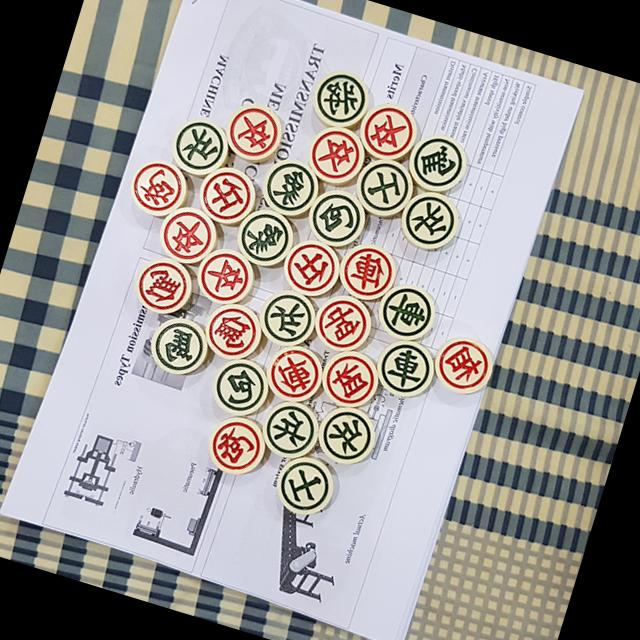black-advisor: (273, 456, 335, 516), (353, 157, 412, 217)
black-cannon: (305, 188, 367, 249), (212, 358, 272, 418)
black-chariot: (372, 280, 438, 342), (372, 338, 437, 398)
black-elephant: (234, 208, 295, 268), (262, 157, 320, 217)
black-general: (312, 70, 371, 127)
black-horse: (404, 133, 469, 197), (148, 316, 210, 376)
black-soldier: (398, 189, 462, 252), (314, 406, 376, 466), (263, 401, 323, 460), (172, 116, 232, 174), (262, 292, 319, 348)
red-advisor: (282, 238, 339, 298), (198, 166, 254, 224)
red-cannon: (207, 419, 263, 474), (130, 159, 184, 215)
red-chariot: (339, 241, 398, 302), (268, 345, 324, 400)
red-elephant: (436, 335, 496, 394), (322, 350, 379, 409)
red-general: (314, 294, 372, 354)
red-horse: (204, 301, 260, 360), (134, 257, 191, 313)
red-soldier: (360, 102, 418, 160), (226, 101, 282, 161), (308, 128, 363, 183), (161, 208, 216, 262), (196, 250, 250, 304)
